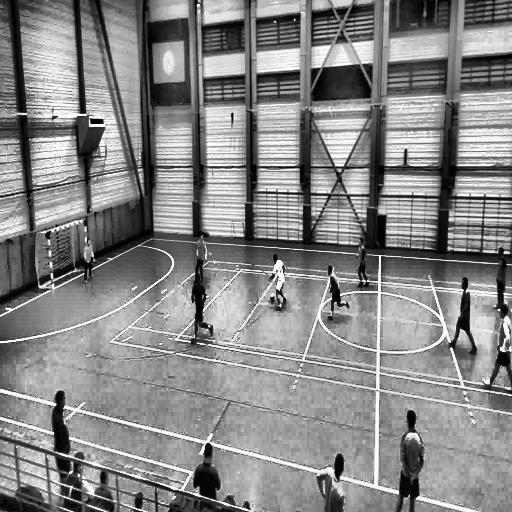ball: (270, 294, 274, 302)
player: (388, 410, 422, 512), (483, 302, 512, 391), (52, 394, 72, 504), (449, 277, 477, 355), (191, 273, 213, 344), (328, 265, 351, 320), (270, 252, 286, 310), (195, 230, 208, 286), (82, 238, 98, 282), (495, 249, 506, 308), (356, 238, 368, 288)
